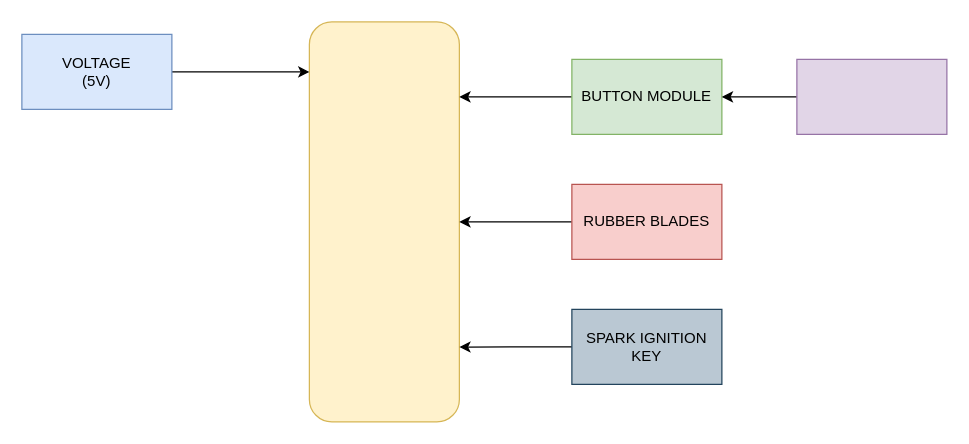
The diagram is 969 pixels wide and 444 high, and some of its shapes have lost their labels. Each missing label, with the centre of its shape:
DROPS OF RAIN: the point at 871,96
STM32E407VGT6 BOARD: the point at 383,221
